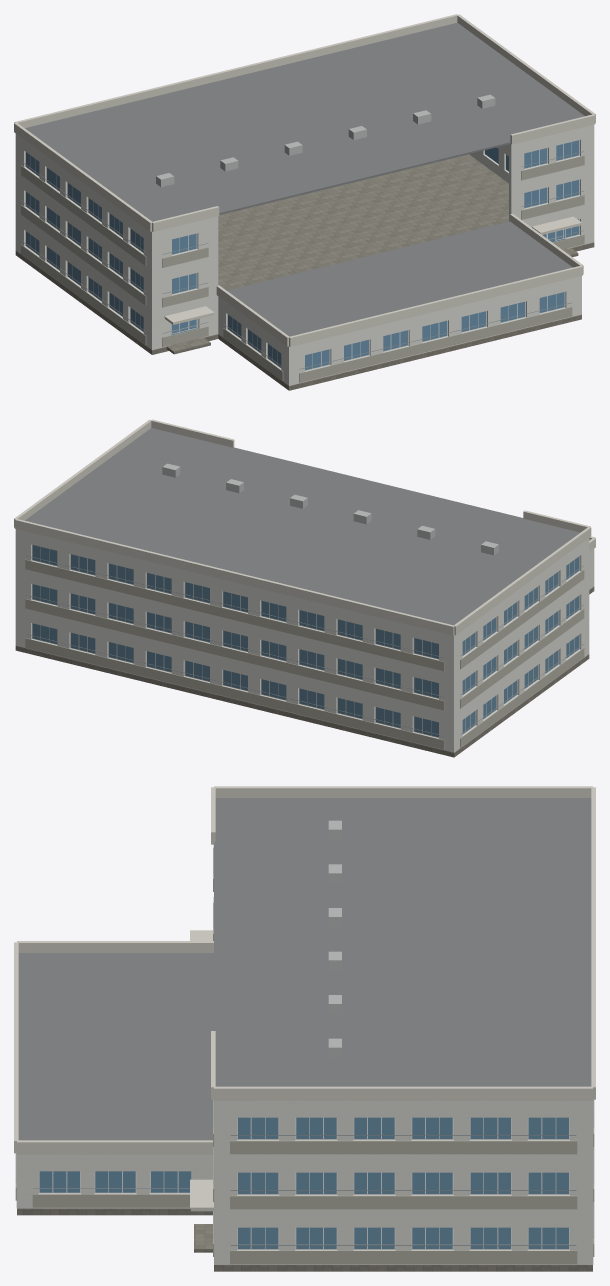
The picture shows the model from 3 angles, top to bottom: view 1: azimuth 30°, elevation 25°; view 2: azimuth 150°, elevation 25°; view 3: azimuth 270°, elevation 25°; orthographic projection. The views are drawn at different scales.
Visible parts, largest first — view 1: dream__roof, dream__white, dream__stone, dream__cap, dream__band, dream__glass, dream__sideglass, dream__frame, dream__unit, dream__steel, dream__threshold-front; view 2: dream__roof, dream__white, dream__band, dream__sideglass, dream__cap, dream__frame, dream__stone, dream__steel, dream__unit; view 3: dream__roof, dream__white, dream__cap, dream__glass, dream__band, dream__stone, dream__frame, dream__steel, dream__unit.
Boxes of the visible parts, x1,y1,x2,y2 form: dream__roof: (25,22,584,336); dream__white: (15,124,594,385); dream__stone: (15,154,594,390); dream__cap: (14,14,595,346); dream__band: (21,155,584,382); dream__glass: (171,140,579,370); dream__sideglass: (26,152,281,367); dream__frame: (25,140,579,370); dream__unit: (156,94,495,187); dream__steel: (21,151,584,369); dream__threshold-front: (166,248,578,354); dream__roof: (25,428,579,625); dream__white: (15,529,594,752); dream__band: (25,559,584,749); dream__sideglass: (32,545,579,737); dream__cap: (14,419,595,635); dream__frame: (32,545,579,737); dream__stone: (15,586,594,757); dream__steel: (25,555,583,736); dream__unit: (162,463,498,555); dream__roof: (18,798,591,1140); dream__white: (16,1100,593,1264); dream__cap: (14,786,595,1211); dream__glass: (39,1117,568,1248); dream__band: (15,847,594,1264); dream__stone: (17,1208,592,1271); dream__frame: (38,1117,569,1249); dream__steel: (15,845,594,1245); dream__unit: (328,820,341,1058).
Bounding box in the file's own units: 47.18 × 13.46 × 38.38.
10 materials, 3 textured.
